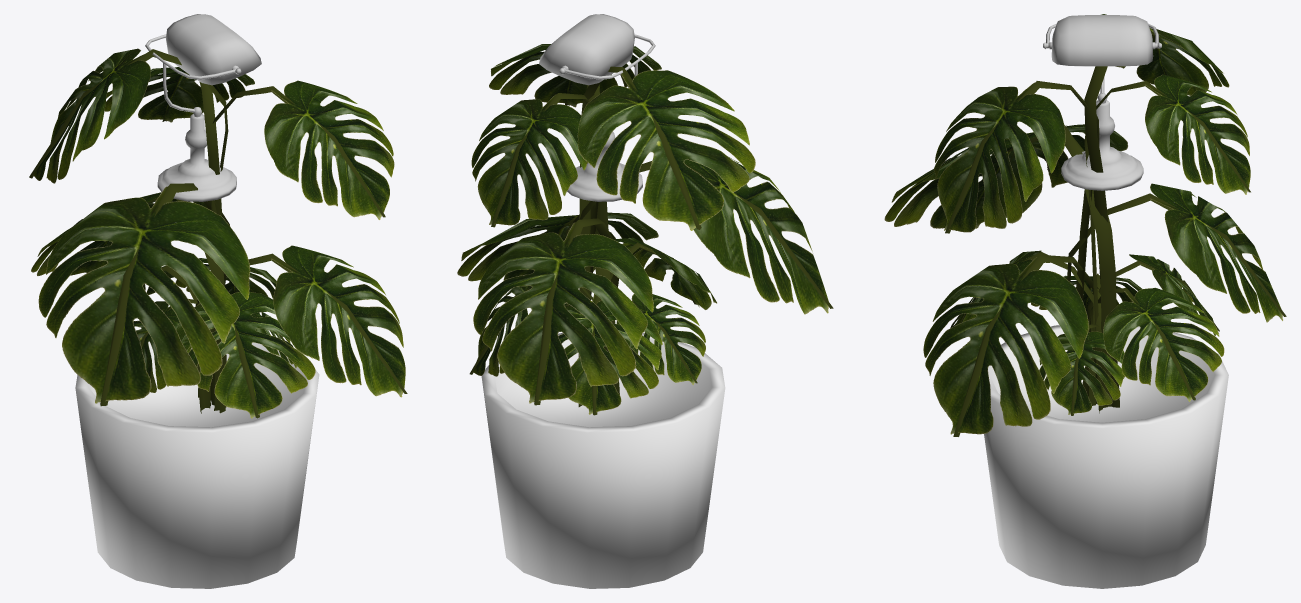
The model's file is desk assets.fbx.
3 views of the same model, side by side, from view 1: azimuth 30°, elevation 25°; view 2: azimuth 150°, elevation 25°; view 3: azimuth 270°, elevation 25° (orthographic). The views are drawn at different scales.
Visible parts, largest first — view 1: plant, pot, lamp shade, lamp; view 2: plant, pot, lamp shade, lamp; view 3: plant, pot, lamp shade, lamp.
Part boxes in pixels (<box>): plant: <box>29,48,407,418</box>; pot: <box>75,341,319,588</box>; lamp shade: <box>166,14,261,85</box>; lamp: <box>145,34,236,201</box>; plant: <box>457,44,833,415</box>; pot: <box>481,333,725,588</box>; lamp shade: <box>539,14,634,85</box>; lamp: <box>565,34,655,201</box>; plant: <box>884,14,1286,436</box>; pot: <box>984,325,1228,588</box>; lamp shade: <box>1043,15,1161,66</box>; lamp: <box>1046,23,1158,190</box>.
Bounding box in the file's own units: 112 × 150 × 109.
